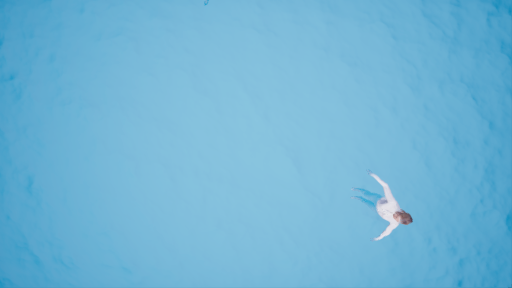person: (345, 167, 418, 242)
